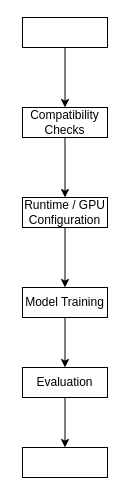
This 129x495 diagram has some shape labels left out. Each missing label, with the centre of its shape:
"Arguments" goes at point (65, 32).
"Results/Reporting" goes at point (65, 462).
